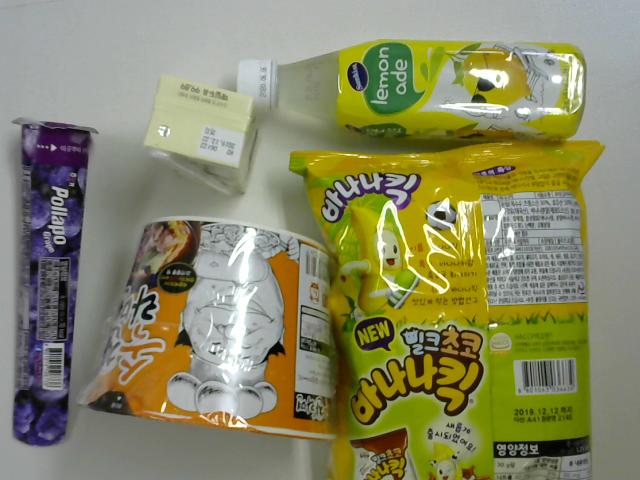99.89_Soymilk: (135, 80, 267, 198)
Banana_Kick: (291, 144, 596, 480)
Hejangchan: (85, 216, 341, 444)
Polapo_Grape: (13, 114, 95, 454)
Sunkist_Lemonaid_Pet: (233, 38, 585, 150)
